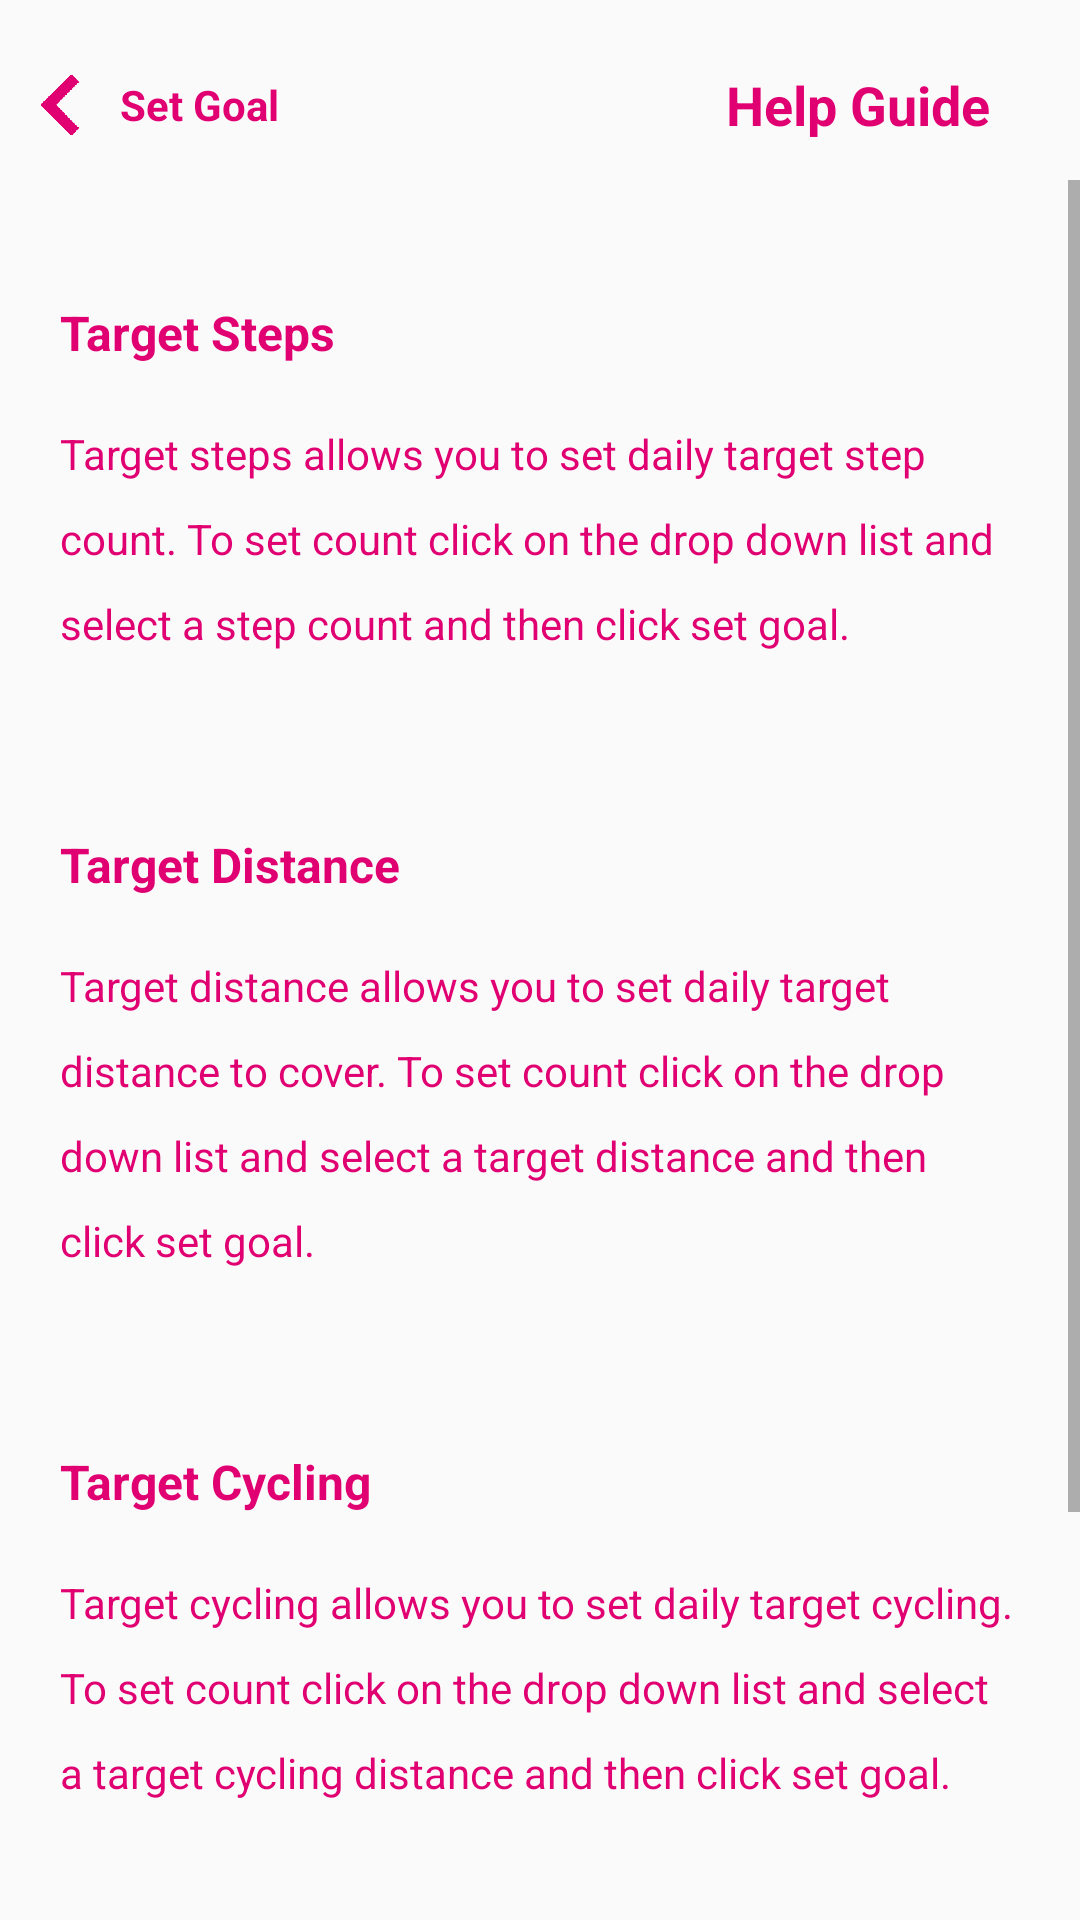

Icons on this 1080 × 1920 Android screen, each with its box as (x1, y1, x2, y2):
back: (41, 75, 79, 135)
